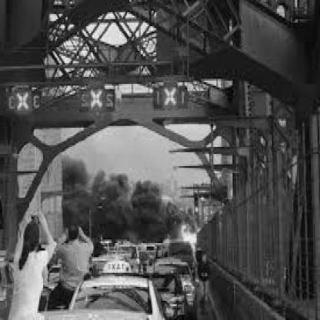Fire: (174, 208, 208, 254)
Smoke: (62, 166, 172, 238)
other: (84, 81, 104, 117), (160, 80, 180, 107), (15, 86, 33, 112)
